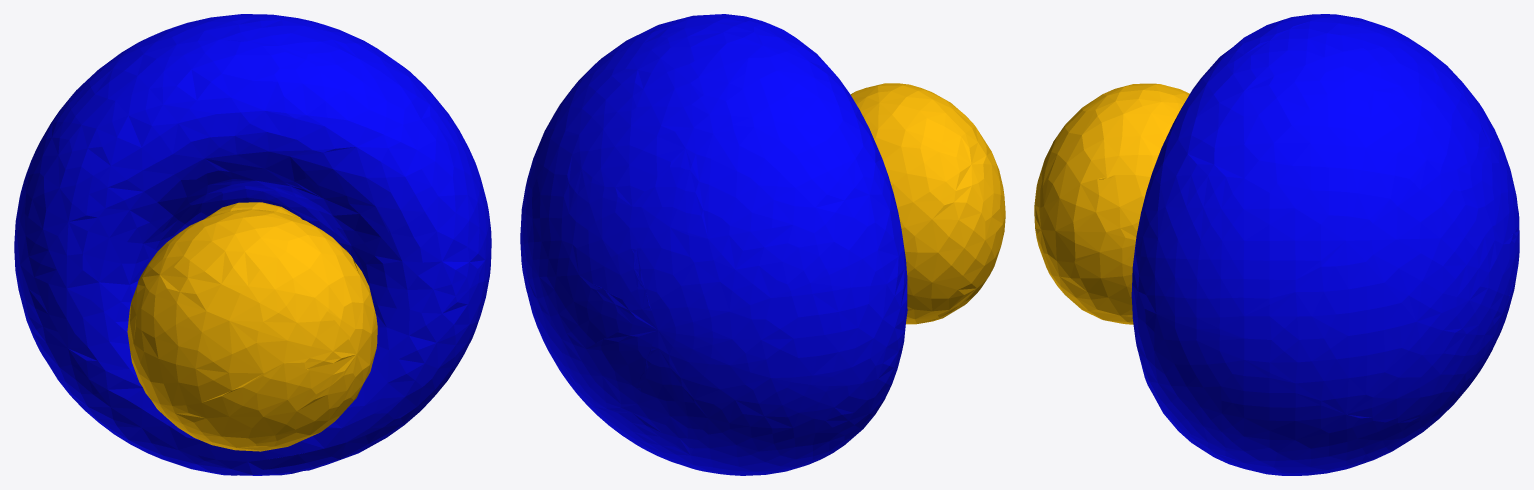
3 renders of one model, left to right at view 1: azimuth 30°, elevation 25°; view 2: azimuth 150°, elevation 25°; view 3: azimuth 270°, elevation 25°, orthographic. The views are drawn at different scales.
Bounding box in the file's own units: 19.15 × 20.03 × 20.9.
